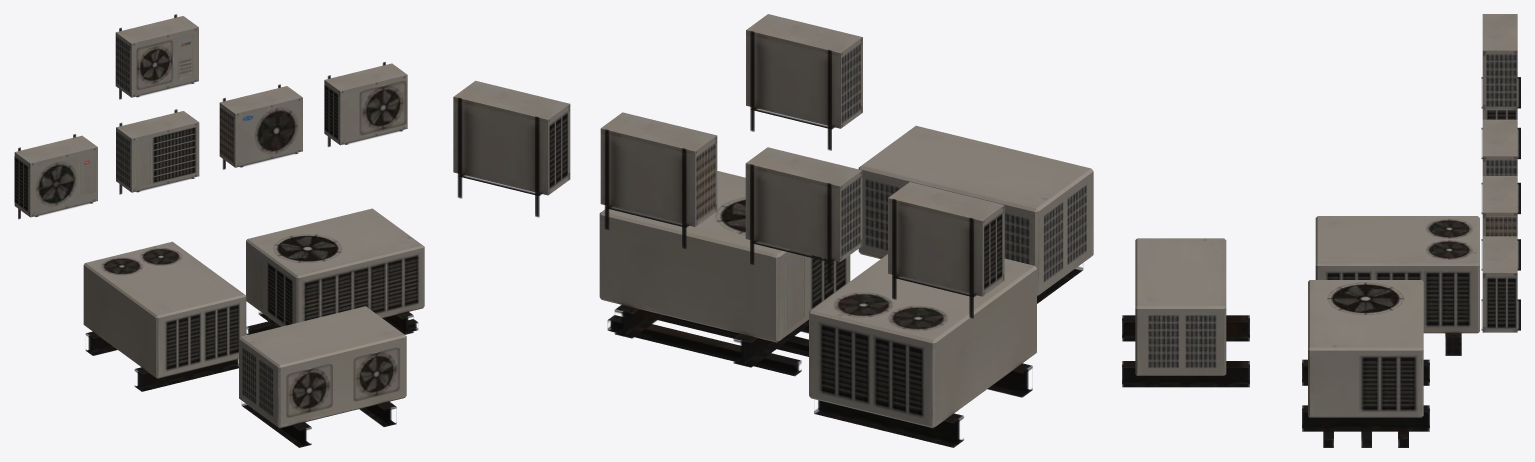
The picture shows the model from 3 angles, left to right: view 1: azimuth 30°, elevation 25°; view 2: azimuth 150°, elevation 25°; view 3: azimuth 270°, elevation 25°; orthographic projection. The views are drawn at different scales.
Visible parts, largest first — view 1: Object_2; view 2: Object_2; view 3: Object_2.
Part boxes in pixels (bbox=[...]): Object_2: bbox=[14, 14, 424, 447]; Object_2: bbox=[453, 14, 1093, 447]; Object_2: bbox=[1122, 14, 1520, 447].
Size of the model in its own units: 621 by 453 by 512.
Materials: 1 (1 with a texture image).
